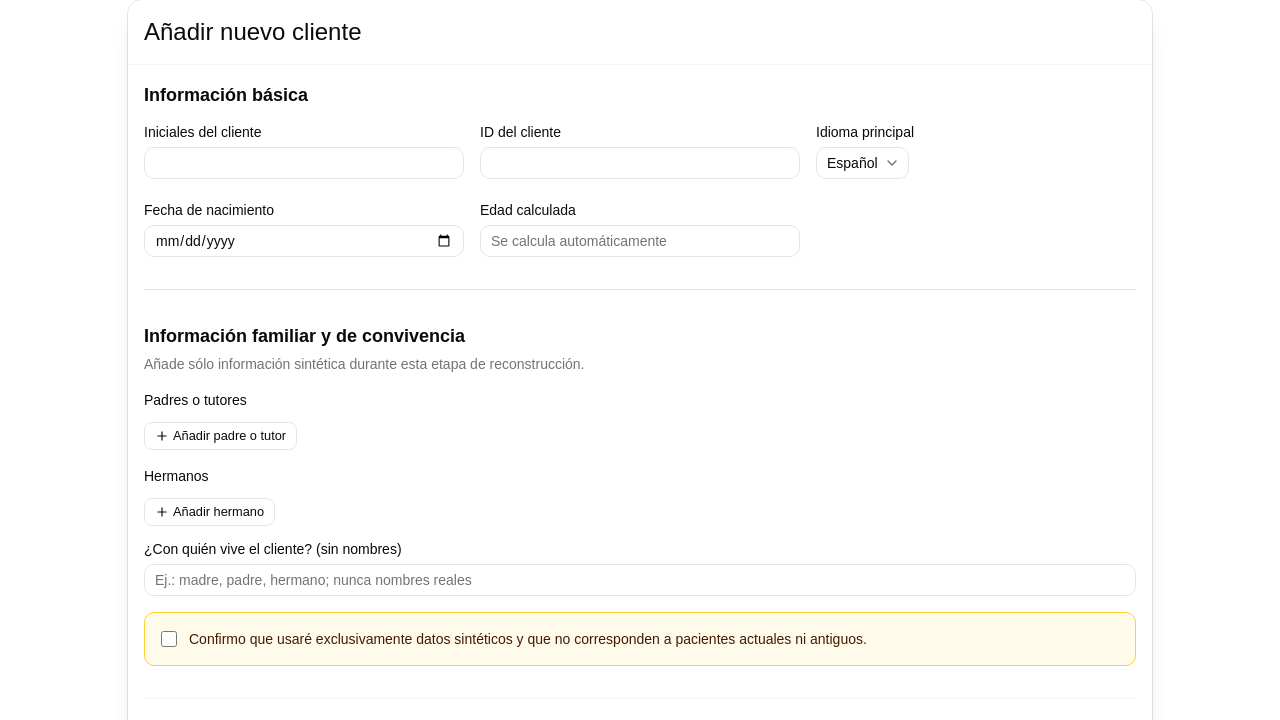
ClientForm › rechaza una fecha futura
In the field labelled "Iniciales del cliente": (304, 163) [144,147,464,179], type "AB"
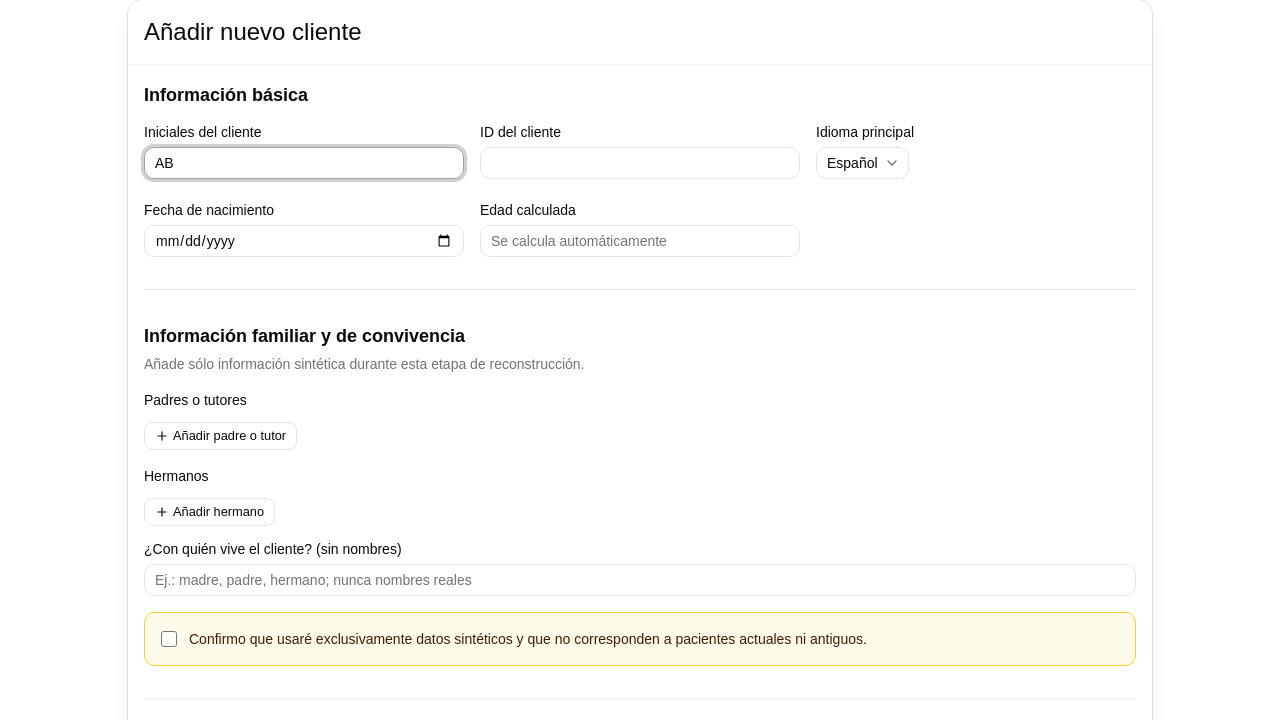
In the field labelled "ID del cliente": (640, 163) [480,147,800,179], type "SYN-003"
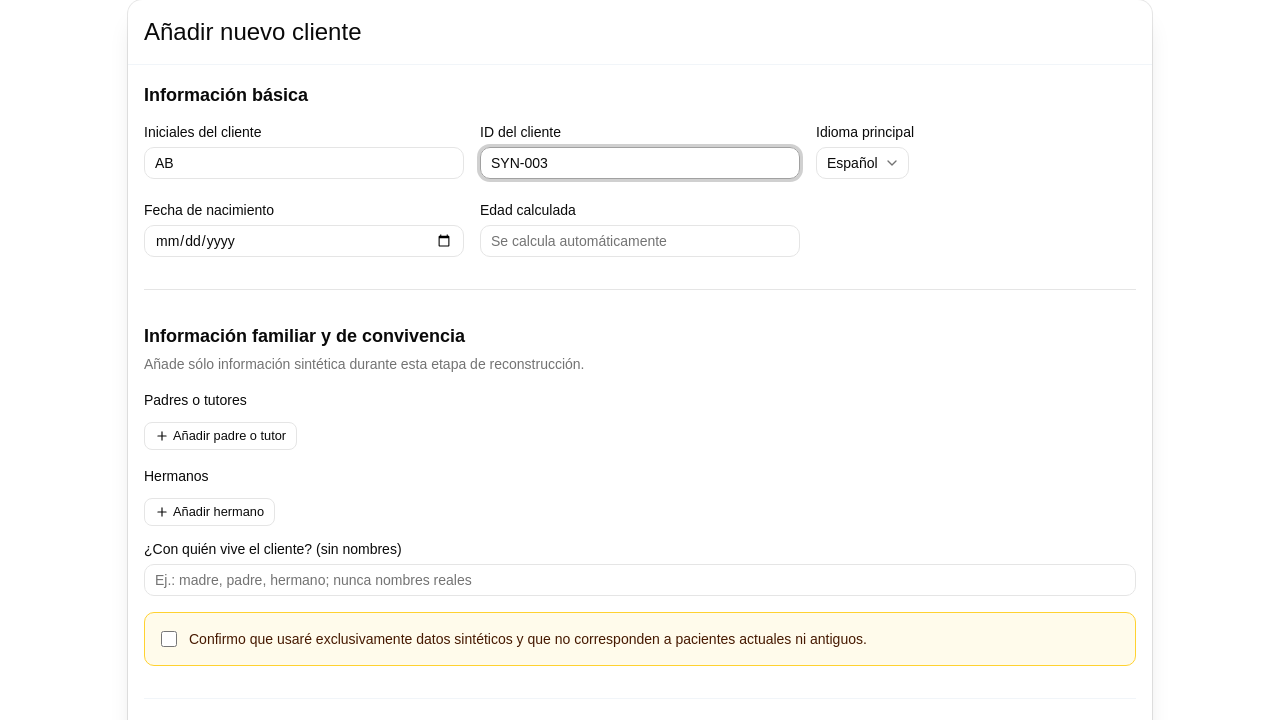
In the date field labelled "Fecha de nacimiento": (304, 241) [144,225,464,257], type "2026-01-01"
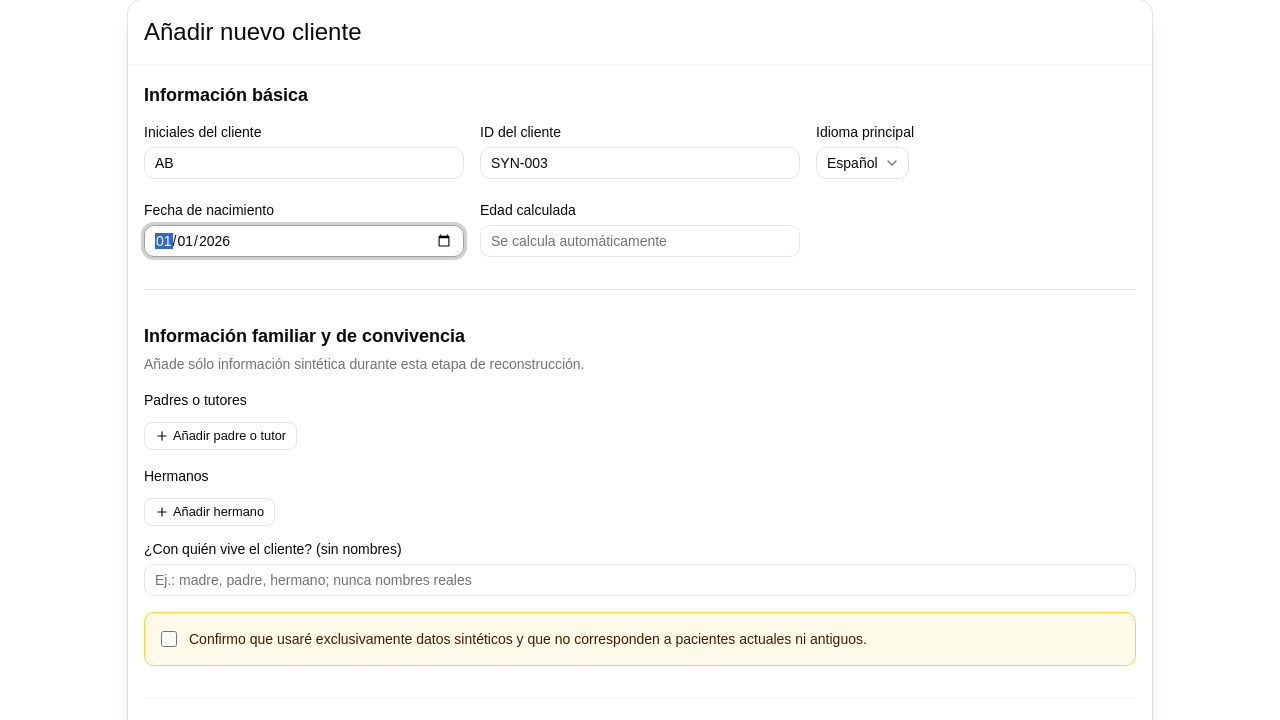
Click the checkbox labelled "Confirmo que usaré exclusivamente datos sintéticos": (169, 639) [161,631,177,647]
(page scrolled)
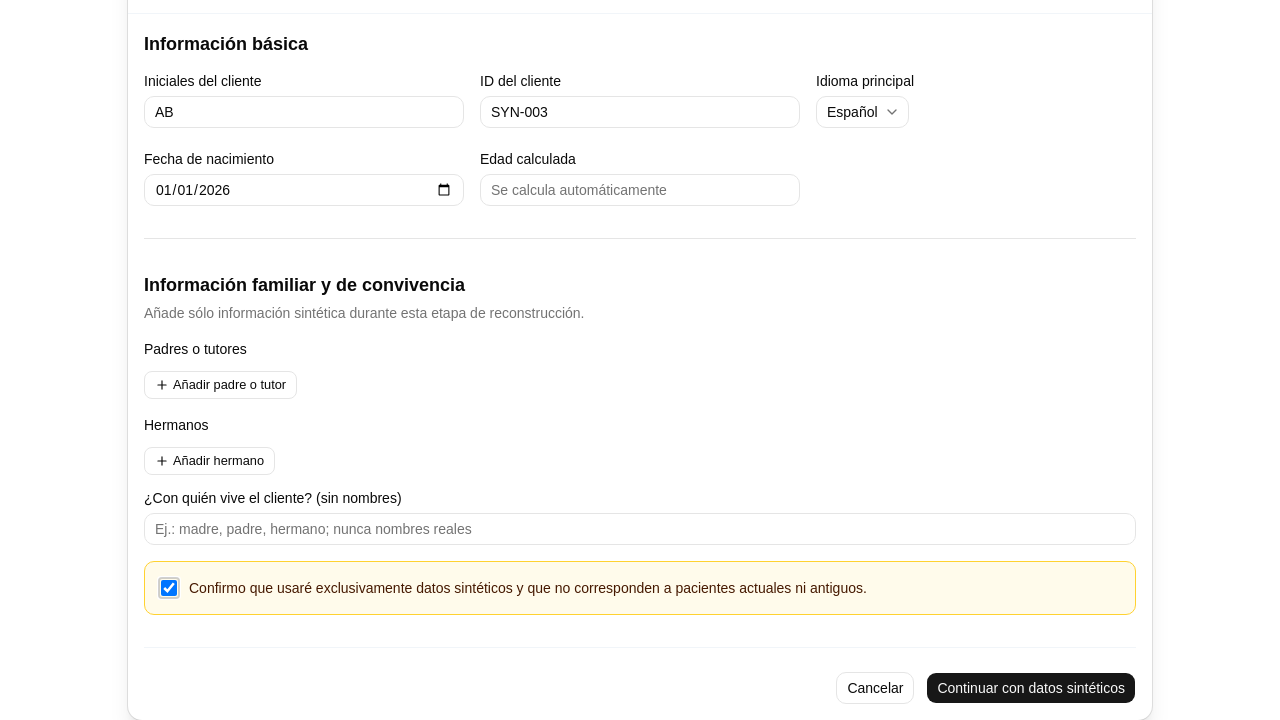
Click the button "Continuar con datos sintéticos": (1031, 688) [926,672,1136,704]
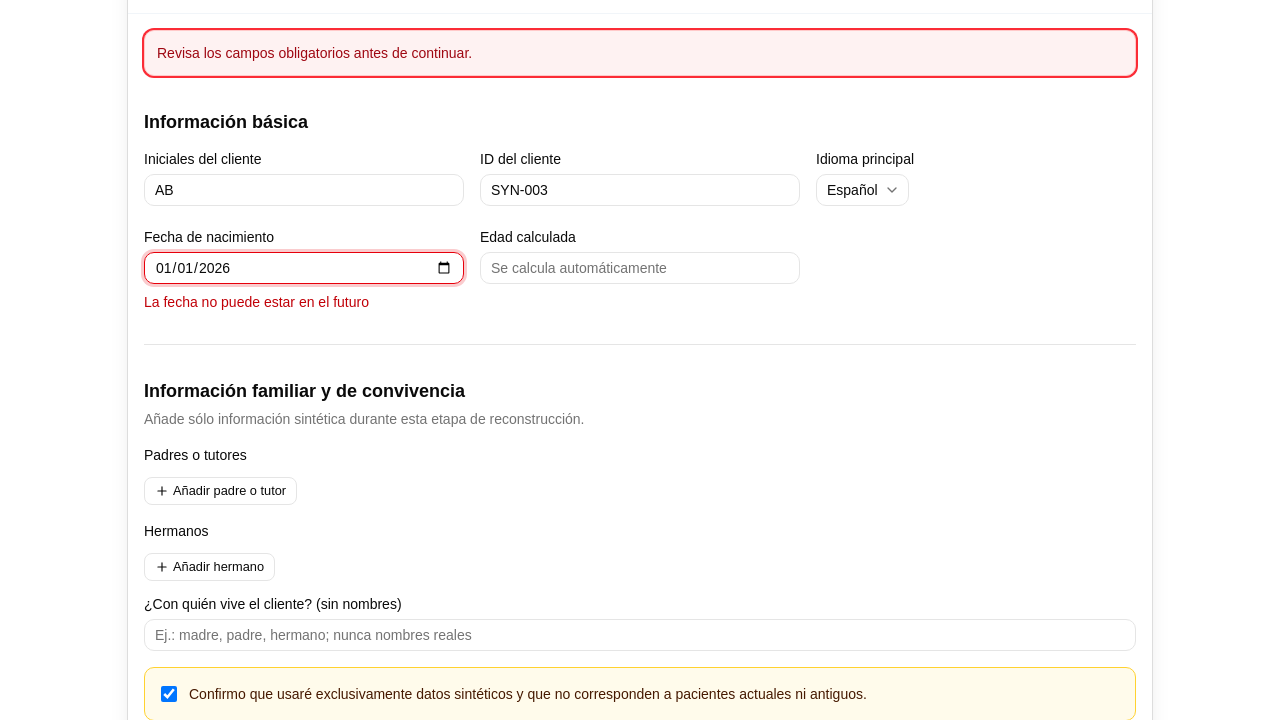
Expected: the text "La fecha no puede estar en el futuro" is shown, [144,294,369,310]
